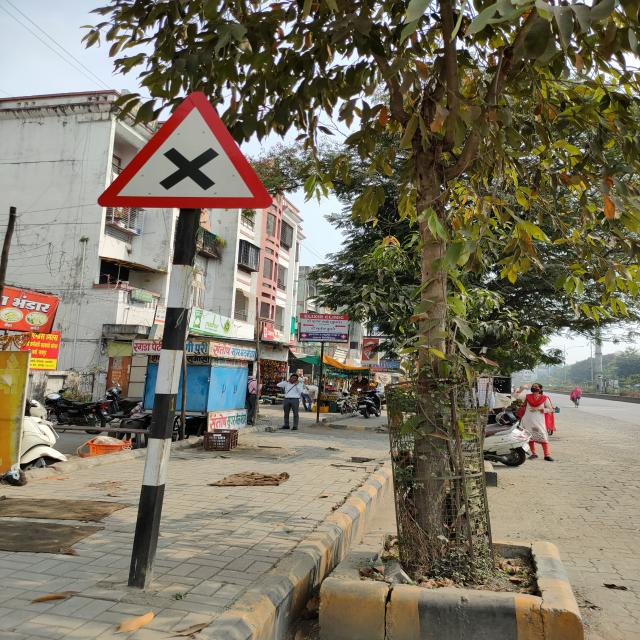cross_road: (94, 89, 274, 220)
